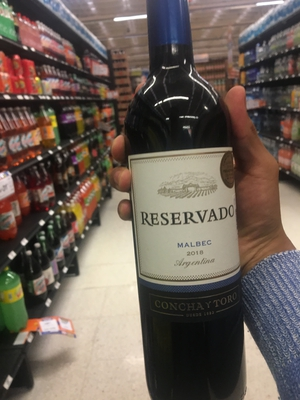reservado malbec: (116, 20, 257, 387)
